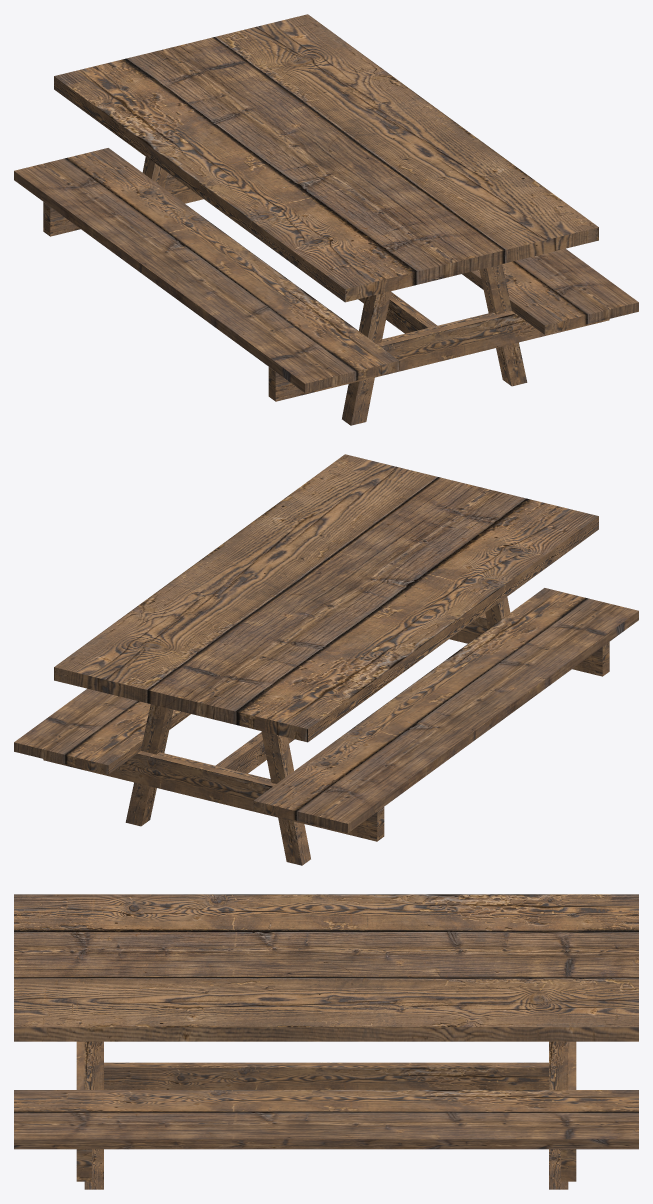
Rendered from mesa picnic.FBX.
The picture shows the model from 3 angles, top to bottom: view 1: azimuth 30°, elevation 25°; view 2: azimuth 150°, elevation 25°; view 3: azimuth 270°, elevation 25°; orthographic projection. The views are drawn at different scales.
Parts seen in each view (by area): view 1: tapa, tabla asiento (×2), tabla asiento001, tabla asiento002, tabla asiento003, tabla asiento004, tabla asiento007; view 2: tapa, tabla asiento (×2), tabla asiento004, tabla asiento006, tabla asiento005, tabla asiento001, tabla asiento007; view 3: tapa, tabla asiento, tabla asiento007, tabla asiento003, tabla asiento005, tabla asiento001, tabla asiento004.
Boxes of the visible parts, left/top/right/bottom form: tapa: left=54, top=14, right=598, bottom=302; tabla asiento (×2): left=14, top=148, right=638, bottom=392; tabla asiento001: left=268, top=311, right=609, bottom=401; tabla asiento002: left=342, top=291, right=391, bottom=425; tabla asiento003: left=479, top=264, right=527, bottom=386; tabla asiento004: left=43, top=173, right=203, bottom=236; tabla asiento007: left=358, top=292, right=437, bottom=333; tapa: left=54, top=454, right=598, bottom=742; tabla asiento (×2): left=14, top=588, right=638, bottom=832; tabla asiento004: left=43, top=751, right=384, bottom=841; tabla asiento006: left=261, top=731, right=310, bottom=865; tabla asiento005: left=125, top=704, right=173, bottom=826; tabla asiento001: left=449, top=613, right=609, bottom=676; tabla asiento007: left=215, top=732, right=294, bottom=773; tapa: left=14, top=894, right=638, bottom=1041; tabla asiento: left=14, top=1090, right=638, bottom=1149; tabla asiento007: left=104, top=1062, right=548, bottom=1089; tabla asiento003: left=84, top=1041, right=103, bottom=1189; tabla asiento005: left=549, top=1041, right=568, bottom=1189; tabla asiento001: left=76, top=1041, right=91, bottom=1181; tabla asiento004: left=561, top=1041, right=576, bottom=1181.
Size of the model in its own units: 1.05 by 0.5123 by 1.59.
